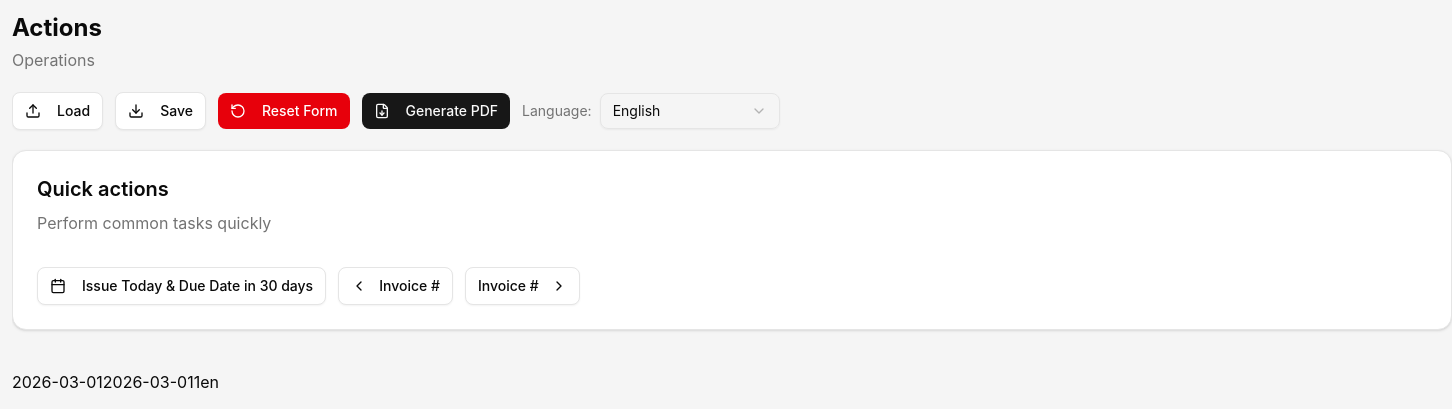
Test: Actions › sets invoiceDate to today and dueDate to +30 days
What coordinates should you click on to do the following:
click the button "Issue Today & Due Date in 30 days"
I would click on:
 (182, 286)
Its box is [37, 267, 326, 305].
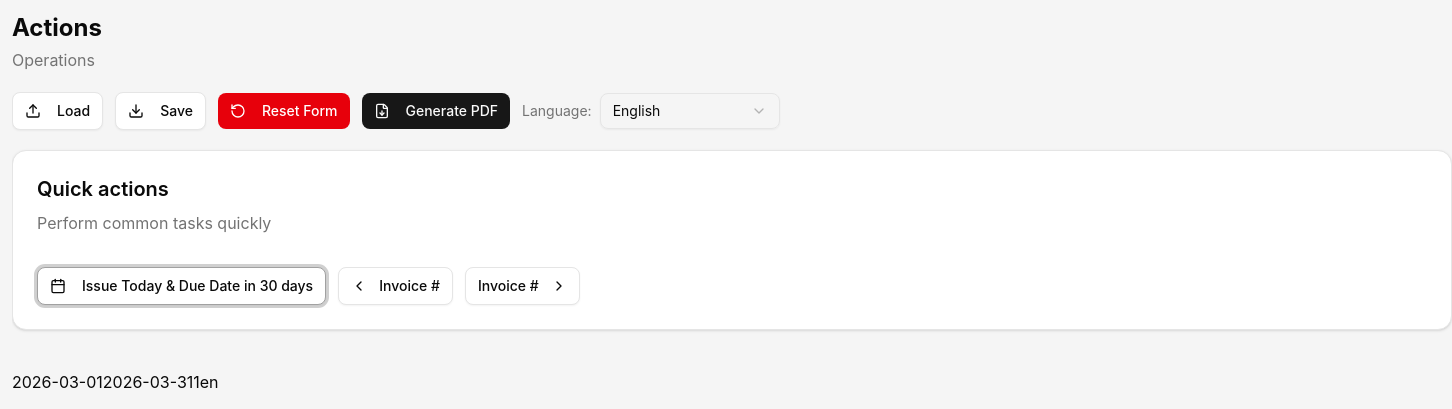
expect the text with test id "invoiceDate" reads "2026-03-01": met, box [12, 372, 103, 392]
expect the text with test id "dueDate" reads "2026-03-31": met, box [103, 372, 193, 392]
